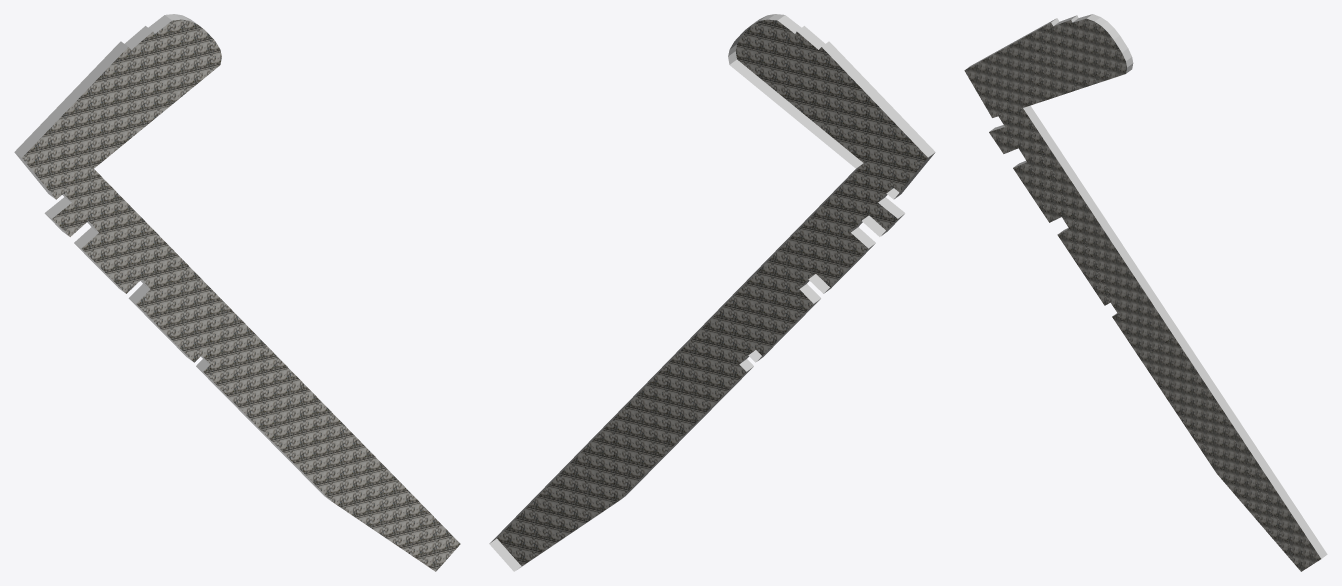
Rendered from geospecific_337.obj.
The picture shows the model from 3 angles, left to right: view 1: azimuth 30°, elevation 25°; view 2: azimuth 150°, elevation 25°; view 3: azimuth 330°, elevation 25°; orthographic projection. The views are drawn at different scales.
Visible parts, largest first — view 1: Building; view 2: Building; view 3: Building.
Part boxes in pixels (x1,y1,x2,y2): Building: [14, 14, 460, 571]; Building: [489, 14, 935, 571]; Building: [964, 14, 1327, 571].
Size of the model in its own units: 99.25 by 133 by 3.
